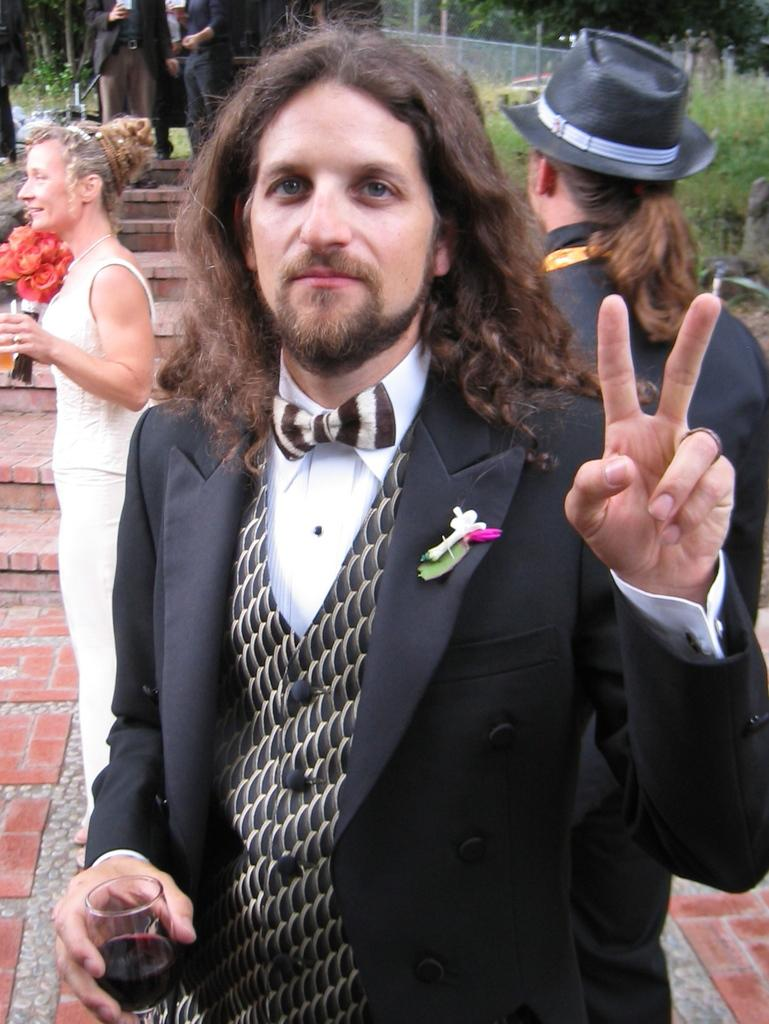Hat: (502, 30, 720, 187)
